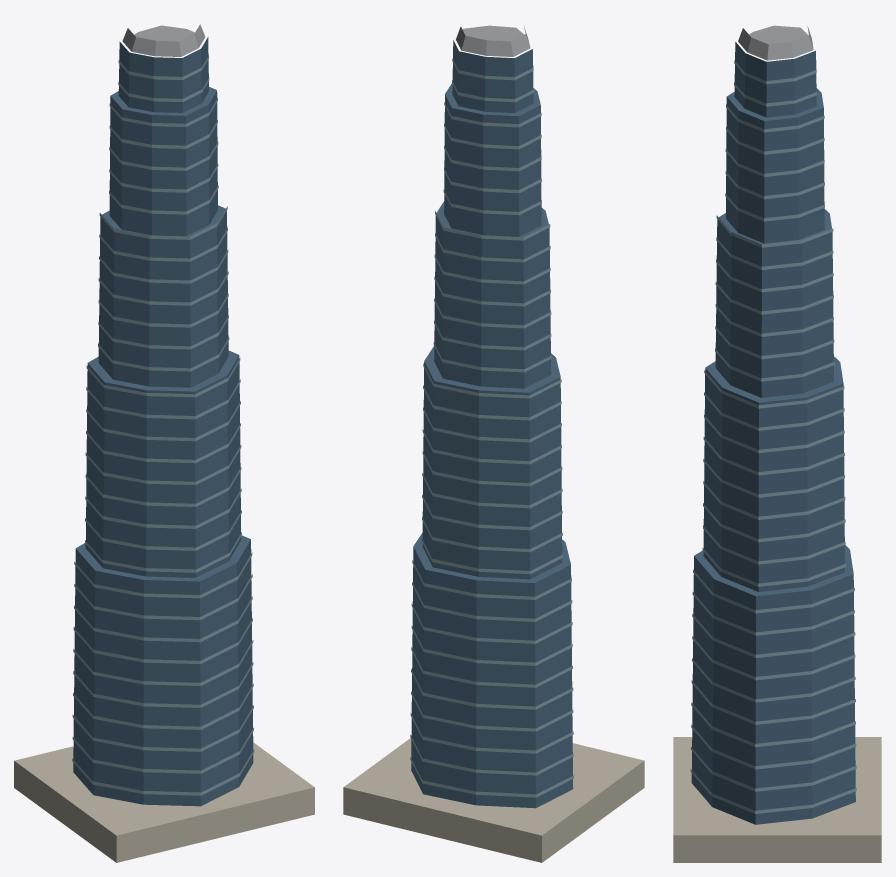
Rendered from twentytwo_bishopsgate.glb.
3 views of the same model, side by side, from view 1: azimuth 30°, elevation 25°; view 2: azimuth 150°, elevation 25°; view 3: azimuth 270°, elevation 25° (orthographic).
Parts seen in each view (by area): view 1: twentytwo_bishopsgate; view 2: twentytwo_bishopsgate; view 3: twentytwo_bishopsgate.
Part boxes in pixels (x1,y1,x2,y2): twentytwo_bishopsgate: (14, 24, 314, 862); twentytwo_bishopsgate: (343, 25, 644, 862); twentytwo_bishopsgate: (673, 25, 881, 862).
Size of the model in its own units: 76 by 283 by 68.
